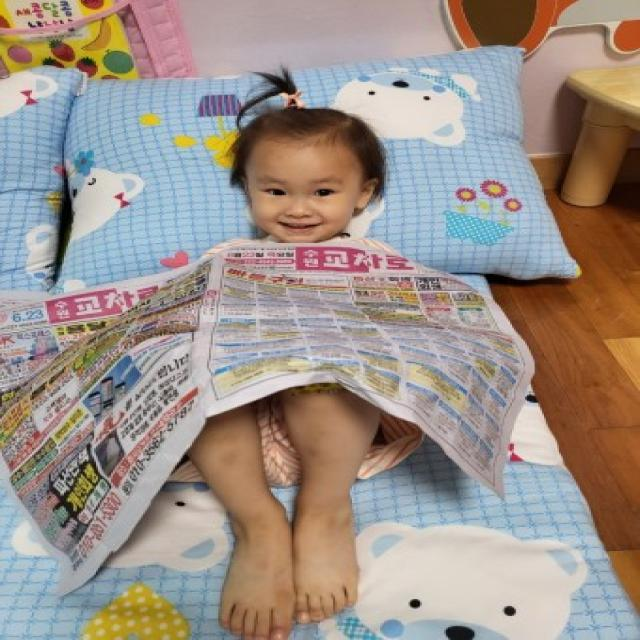Newspaper: (230, 255, 456, 393)
